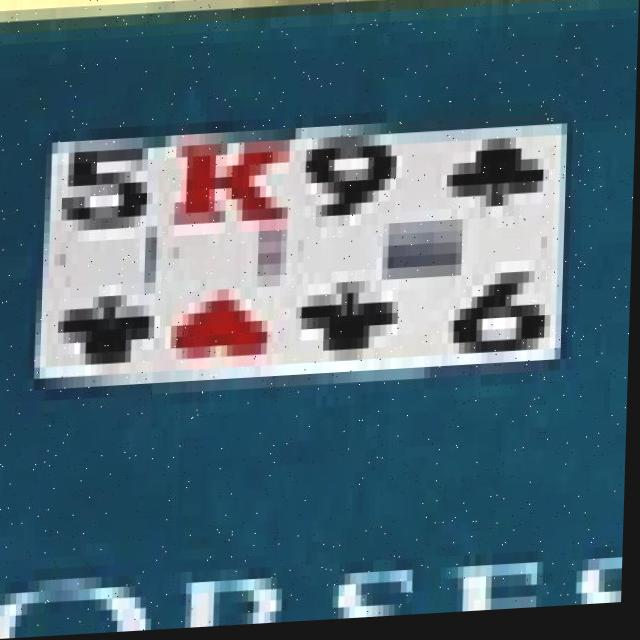Card-5: (45, 138, 165, 380)
Card-9: (295, 130, 569, 370)
Card-K: (165, 139, 294, 380)
